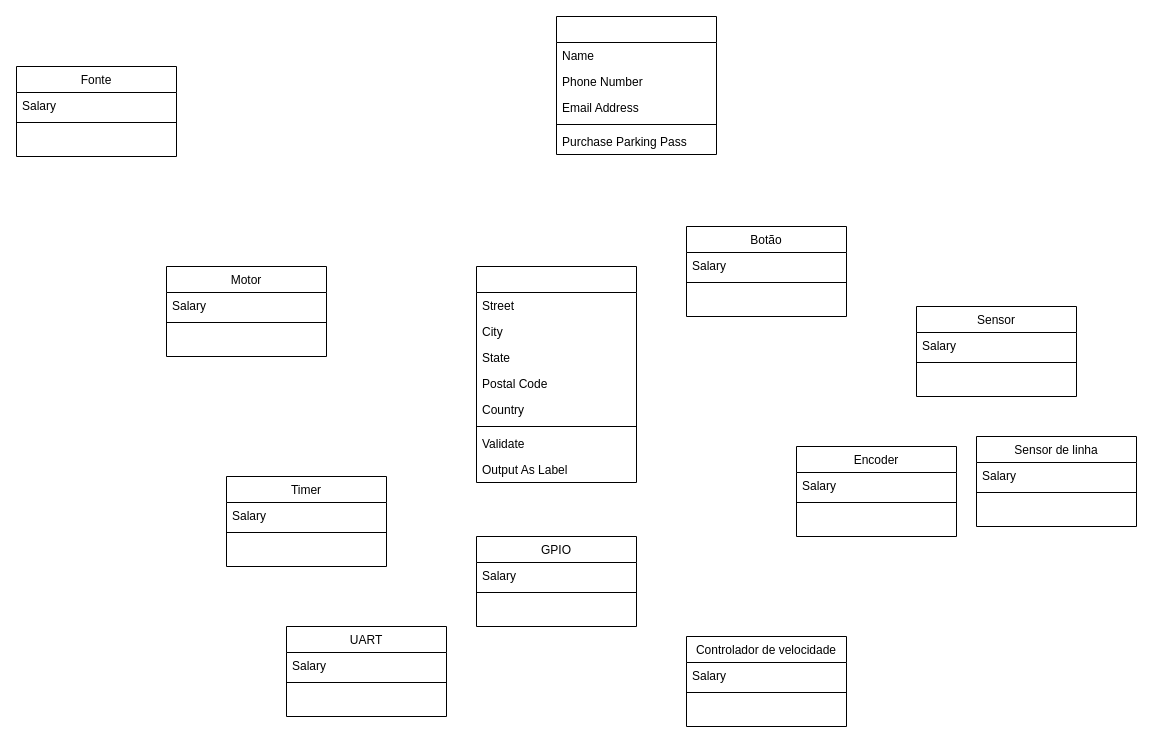
The diagram is 1153 pixels wide and 743 high, and some of its shapes have lost their labels. The box of each missing label's shape, as (x1, y1, x2, y2) in pixels:
Microcontrolador: (476, 266, 636, 482)
Robô seguidor de linha: (556, 16, 716, 154)
